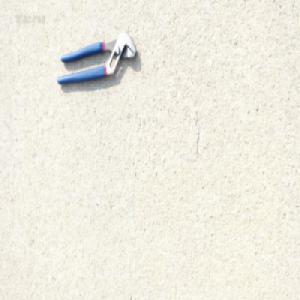Pliers: (55, 30, 137, 87)
